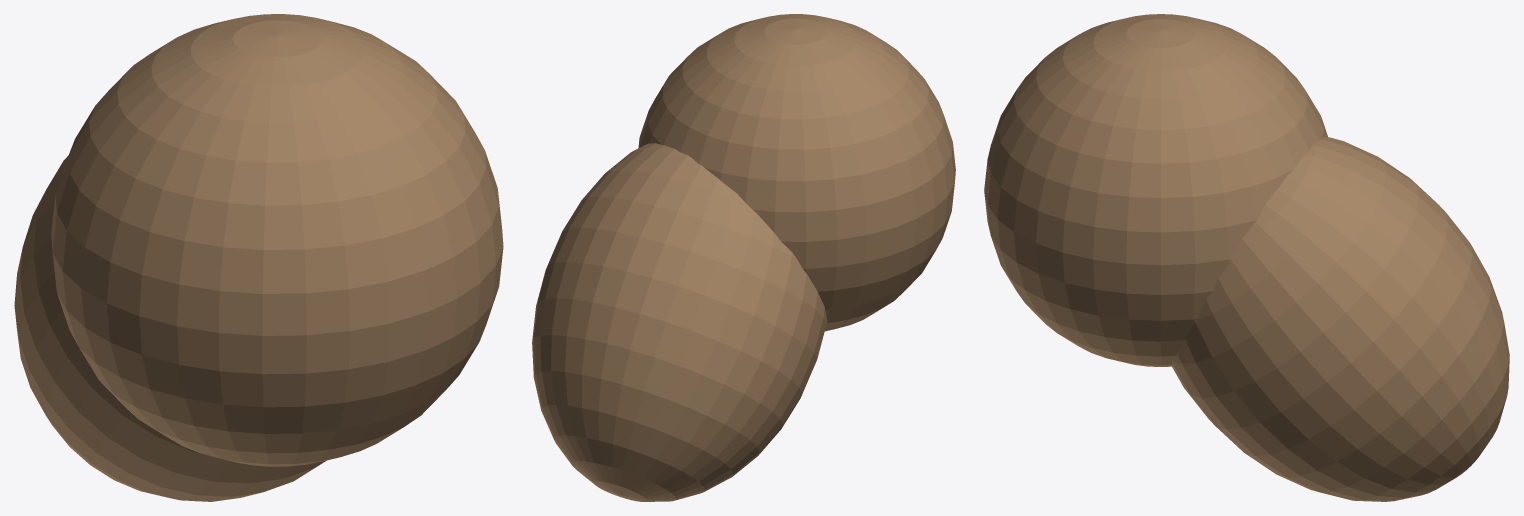
File: BicepDer_Jugador.obj
3 renders of one model, left to right at view 1: azimuth 30°, elevation 25°; view 2: azimuth 150°, elevation 25°; view 3: azimuth 270°, elevation 25°, orthographic. The views are drawn at different scales.
Parts seen in each view (by area): view 1: BicepDer_Jugador; view 2: BicepDer_Jugador; view 3: BicepDer_Jugador.
Boxes of the visible parts, box(x1,y1,x2,y2) form: BicepDer_Jugador: box(14, 14, 503, 501); BicepDer_Jugador: box(532, 14, 955, 501); BicepDer_Jugador: box(984, 14, 1509, 501).
Size of the model in its own units: 1.27 by 1.6 by 1.74.
Materials: 1 (1 with a texture image).
